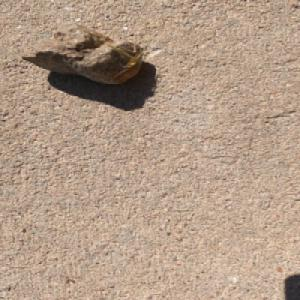Rock: (20, 21, 146, 85)
